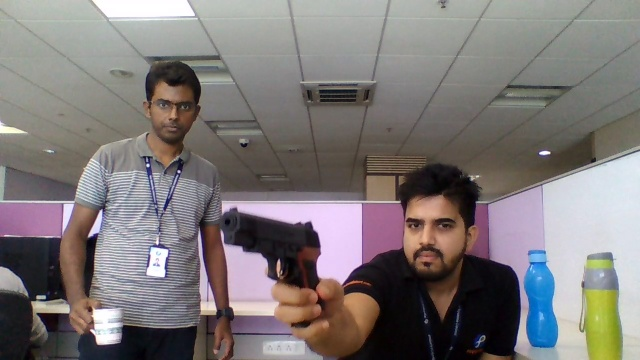gun: (221, 207, 320, 286)
